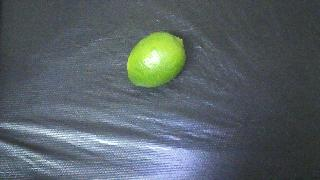LOCAL: (127, 32, 186, 88)
